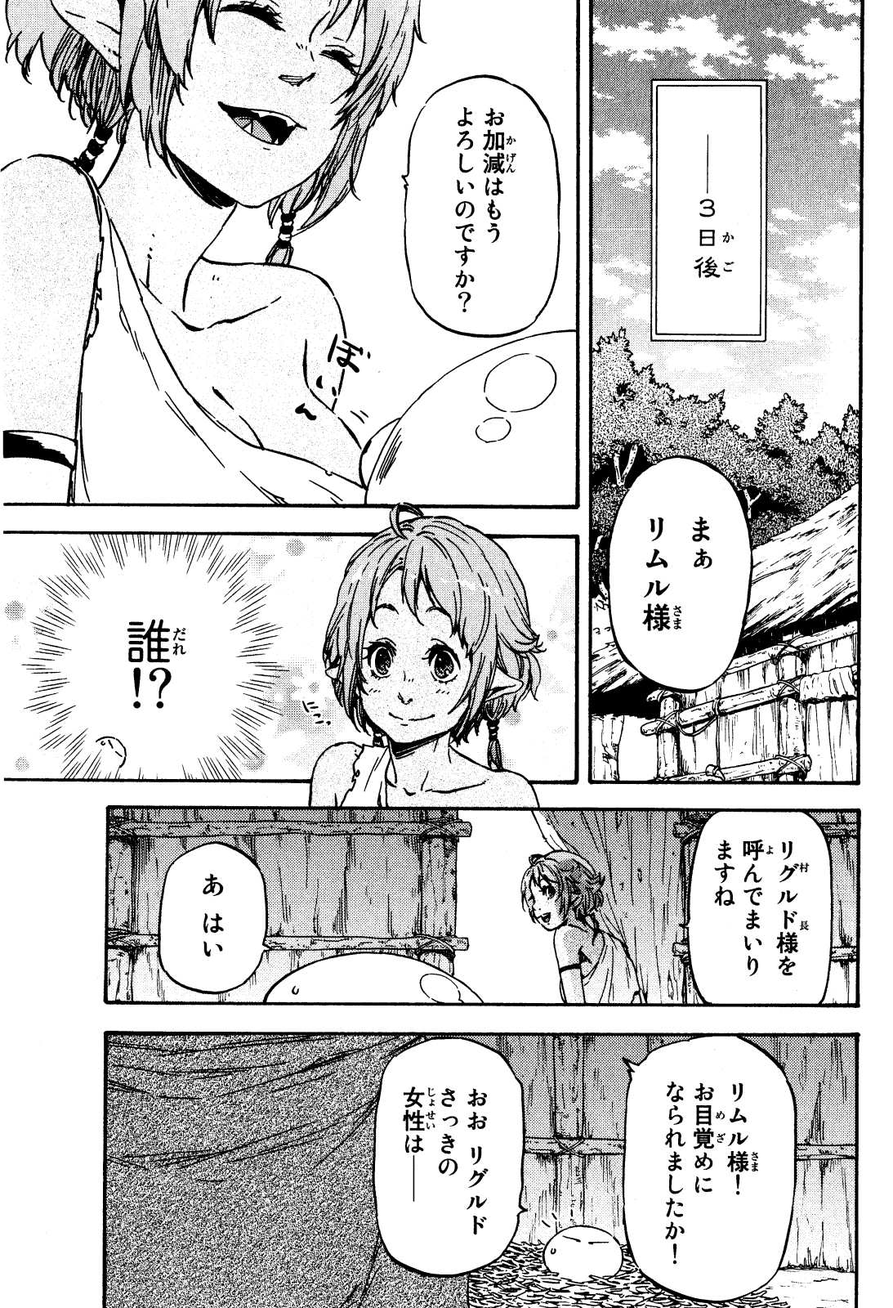bubbles: (42, 534, 271, 779), (605, 1034, 807, 1304), (390, 65, 573, 348), (359, 1033, 545, 1283), (605, 448, 759, 704), (671, 807, 840, 1006), (649, 74, 771, 346), (146, 837, 278, 997)
